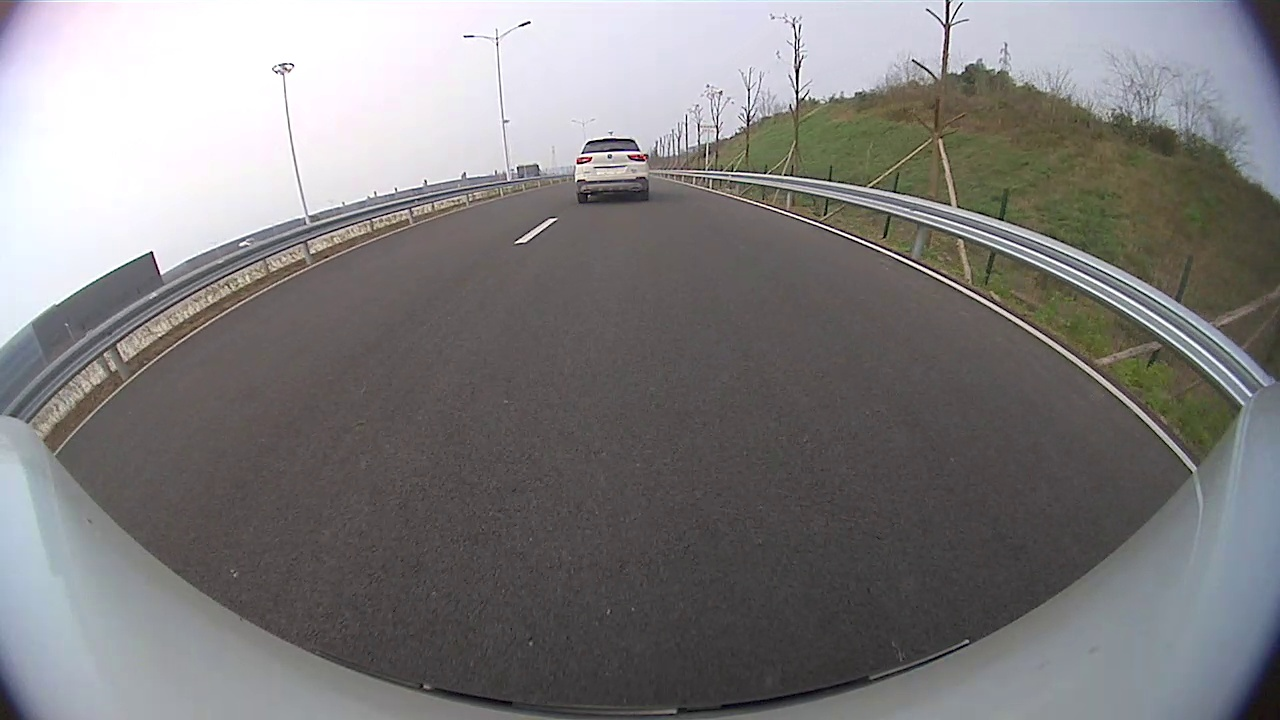car: (572, 137, 653, 208)
